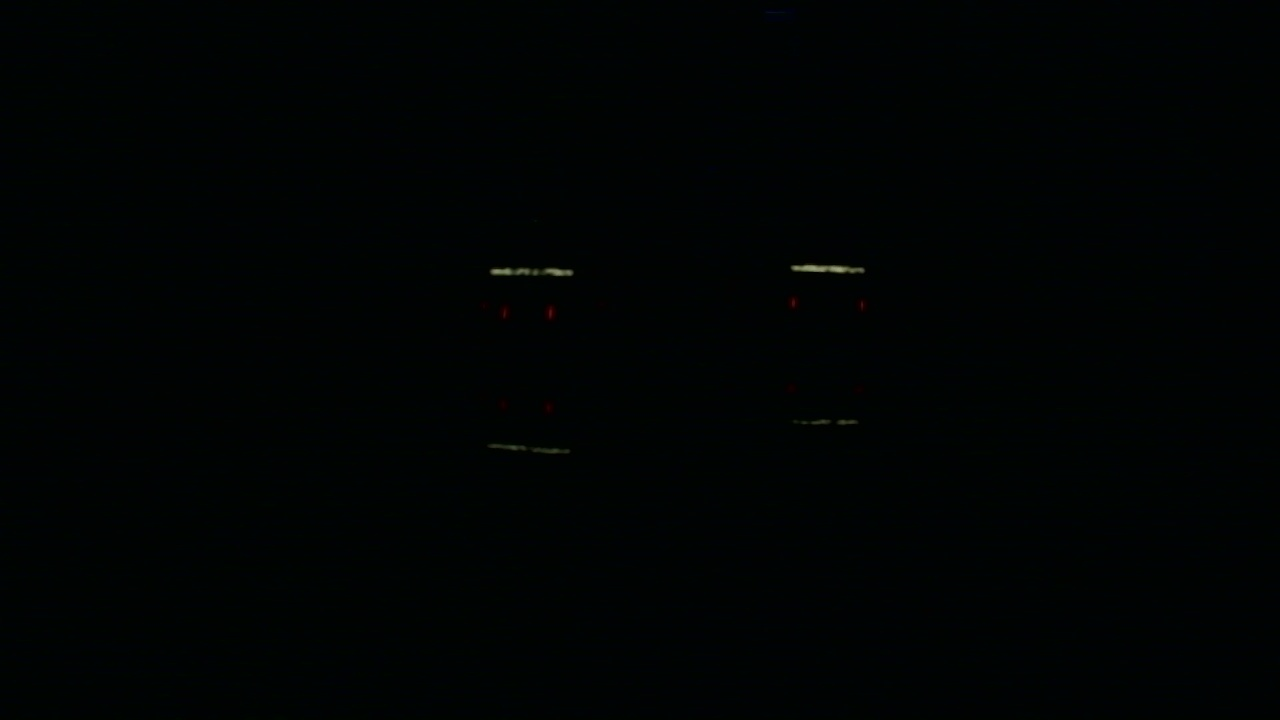lamp: (789, 297, 797, 313), (861, 297, 867, 313), (502, 307, 508, 317), (547, 306, 553, 316)
pair1: (503, 307, 553, 317)
pair2: (789, 298, 867, 314)
